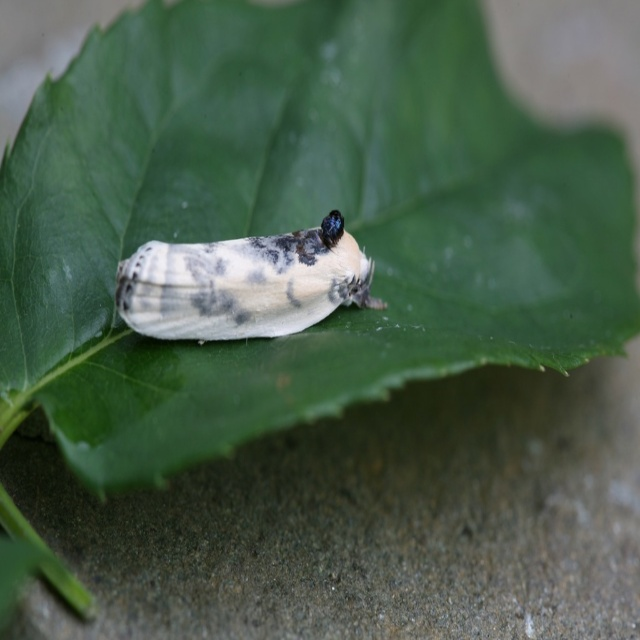Moths and butterflies: (109, 208, 390, 343)
